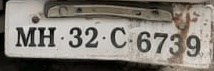character: (14, 25, 36, 48), (37, 26, 56, 47), (109, 26, 127, 48), (136, 30, 151, 53), (153, 31, 167, 54), (186, 34, 200, 57), (169, 33, 183, 55), (69, 27, 83, 48), (84, 26, 98, 47)
